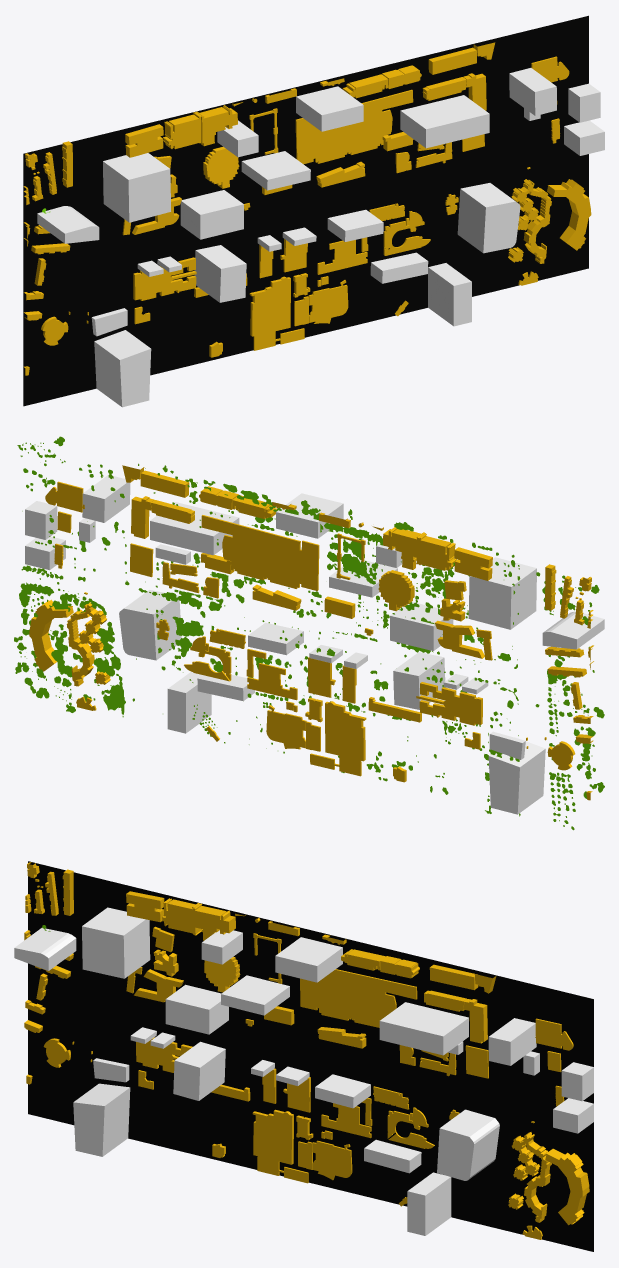
The model's file is new_high_buildings_05.glb.
The picture shows the model from 3 angles, top to bottom: view 1: azimuth 30°, elevation 25°; view 2: azimuth 150°, elevation 25°; view 3: azimuth 330°, elevation 25°; orthographic projection.
Visible parts, largest first — view 1: Layer 04, new buildings, existing_building - Copy; view 2: existing_building - Copy, new buildings, treesurface; view 3: Layer 04, new buildings, existing_building - Copy.
Boxes of the visible parts, x1,y1,x2,y2 form: Layer 04: (23, 15, 588, 406); new buildings: (37, 68, 604, 407); existing_building - Copy: (23, 42, 591, 375); existing_building - Copy: (29, 465, 593, 800); new buildings: (25, 474, 604, 814); treesurface: (14, 436, 604, 830); Layer 04: (28, 861, 593, 1251); new buildings: (14, 907, 593, 1235); existing_building - Copy: (24, 862, 589, 1239).
Bounding box in the file's own units: 1035 × 458 × 84.18.
